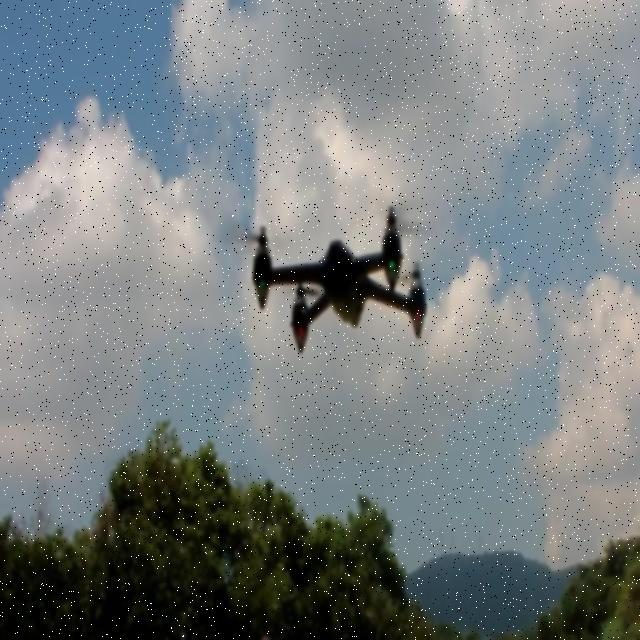UAV: (252, 201, 429, 354)
